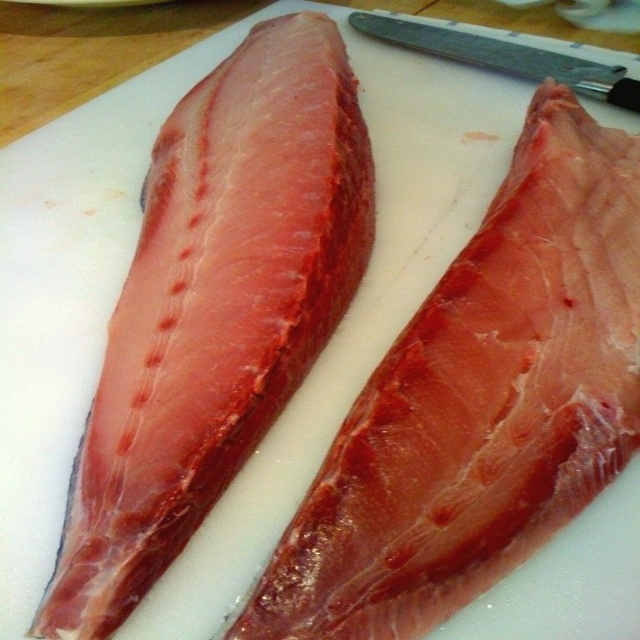Fish: (228, 76, 640, 640), (25, 10, 377, 640)
